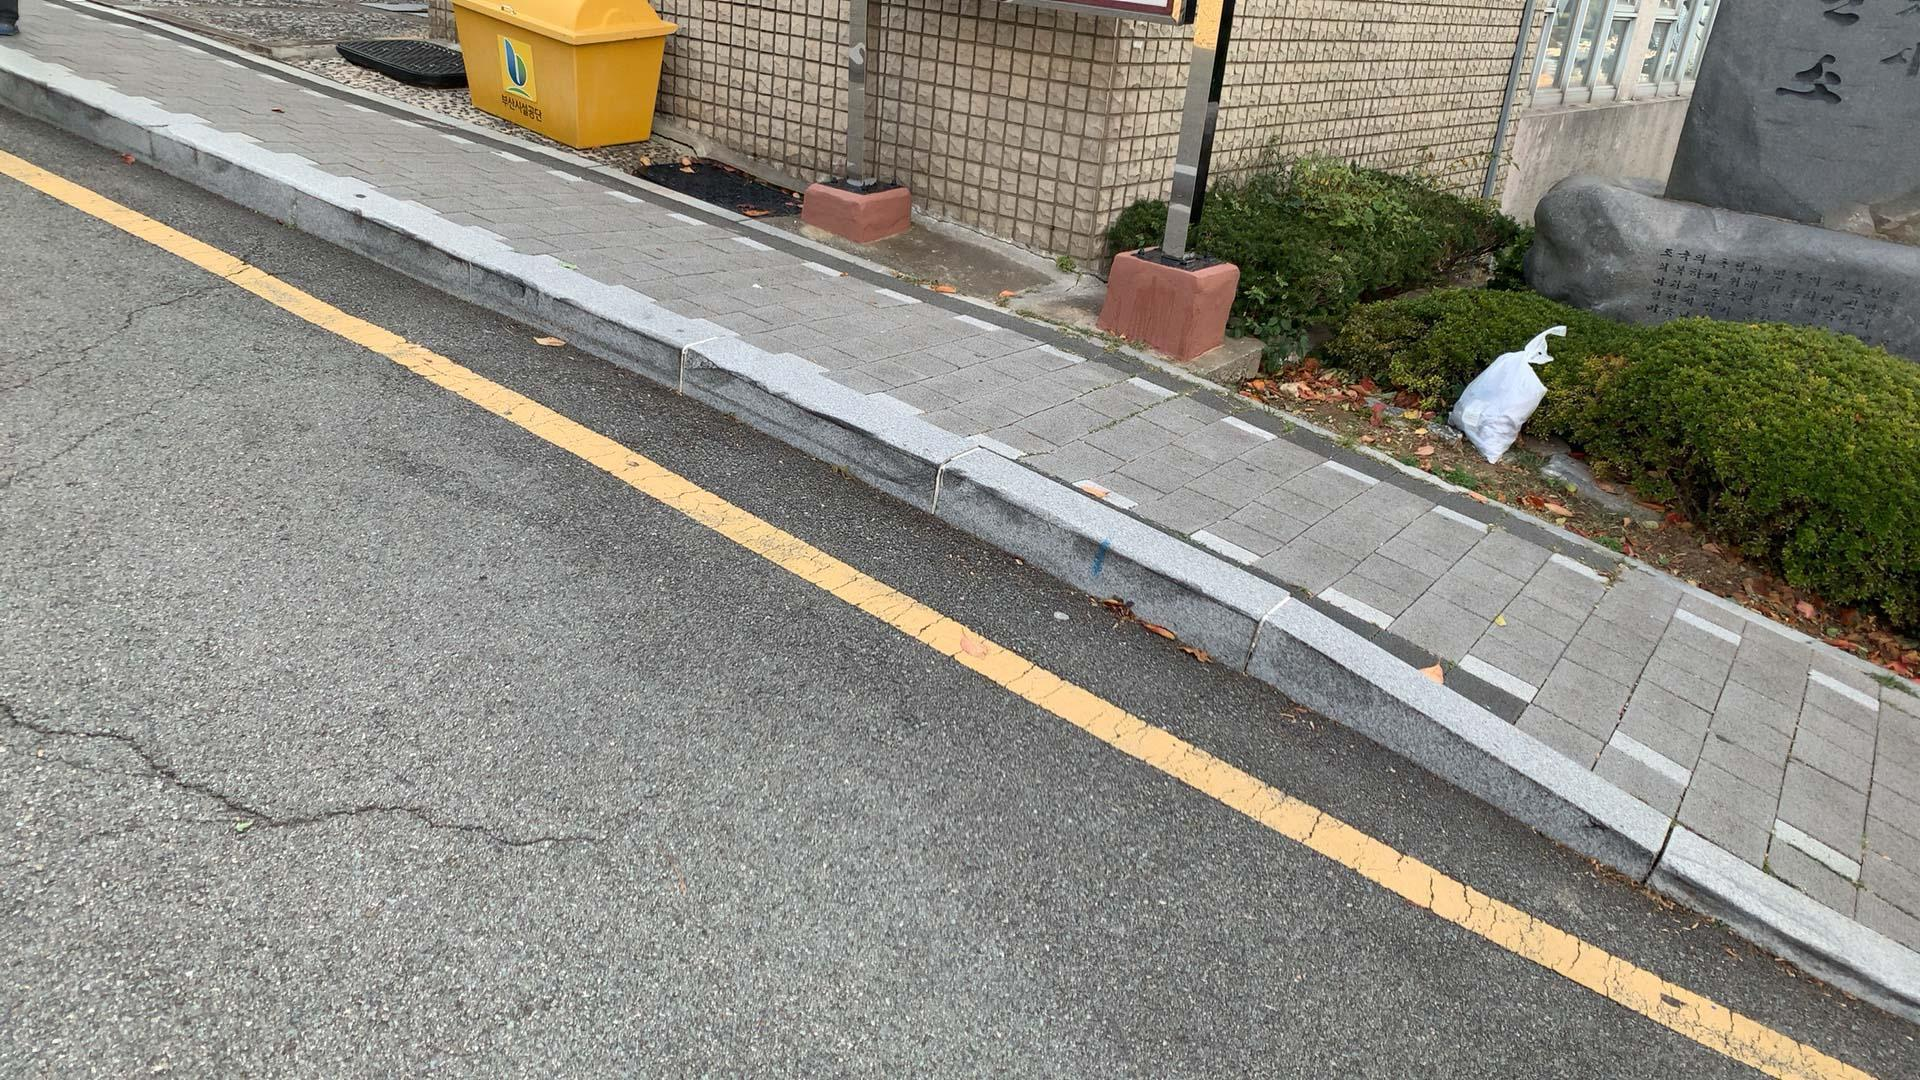white_bag: (1436, 314, 1576, 469)
